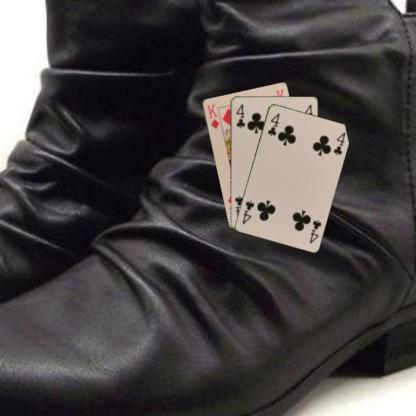4c: (306, 217, 323, 244), (264, 110, 280, 138), (234, 101, 245, 130)
Kd: (204, 102, 220, 130)
